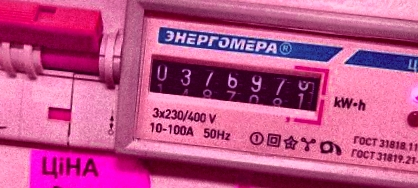0: (154, 61, 169, 82)
1: (294, 90, 307, 109)
3: (178, 66, 192, 87)
6: (225, 67, 240, 90)
7: (201, 66, 216, 88), (272, 74, 286, 97)
9: (248, 72, 262, 94)
screen: (138, 45, 333, 127)
